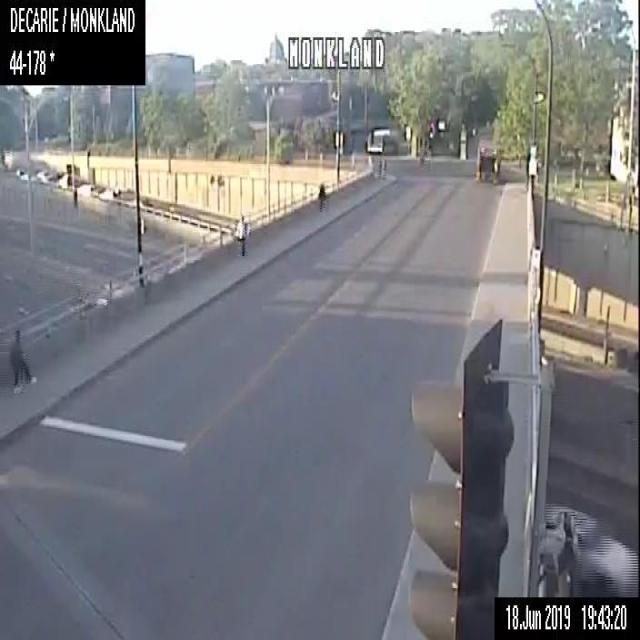bus: (366, 126, 394, 152)
pedestrian: (7, 327, 35, 389), (234, 212, 250, 257), (316, 180, 326, 211)
vehicle: (543, 501, 639, 595), (475, 146, 499, 178), (56, 172, 79, 188), (98, 187, 121, 200), (74, 182, 96, 195)
